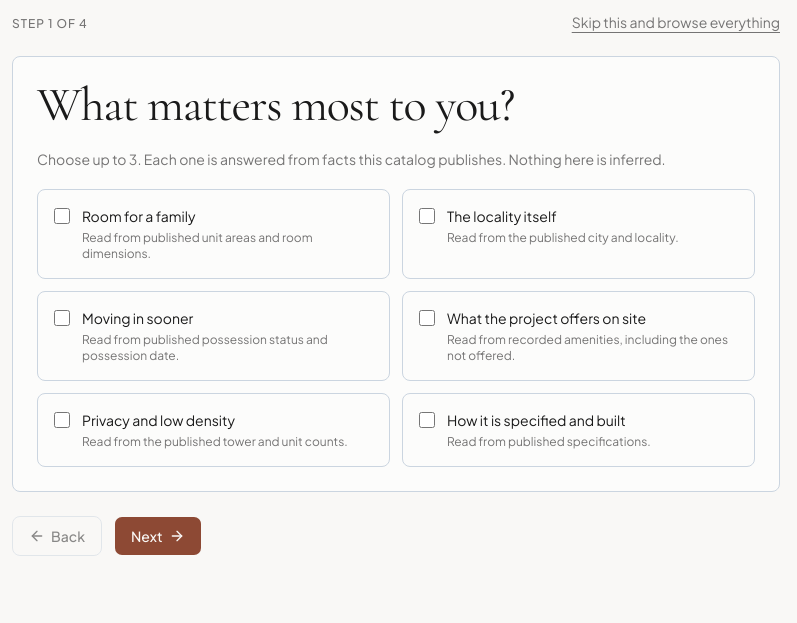
Test: IntakeFlow — answer retention › starting again clears the answers and returns to the first question
Click the checkbox labelled "Room for a family" at (62,216), box [54,208,70,224]
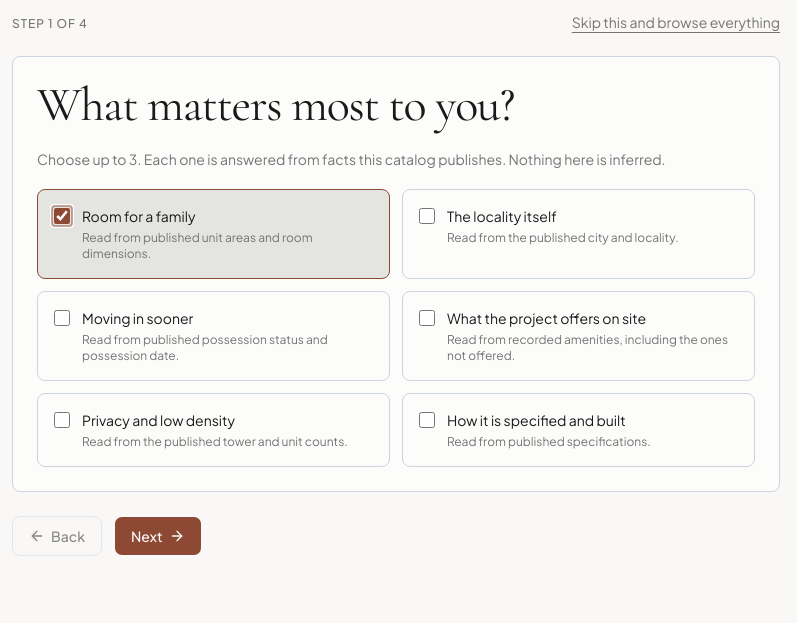
Click the button "Next" at (158,536), box [114,516,202,556]
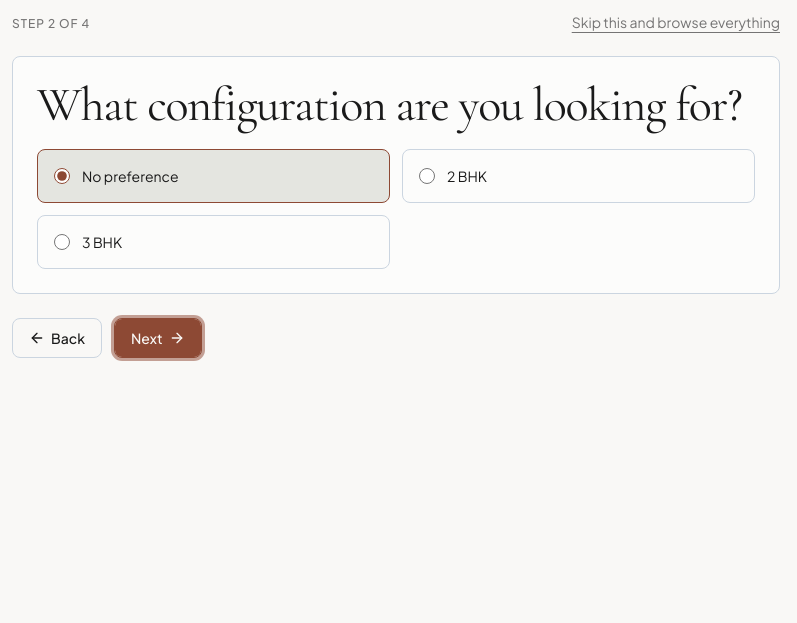
Click the button "Next" at (158,338), box [114,318,202,358]
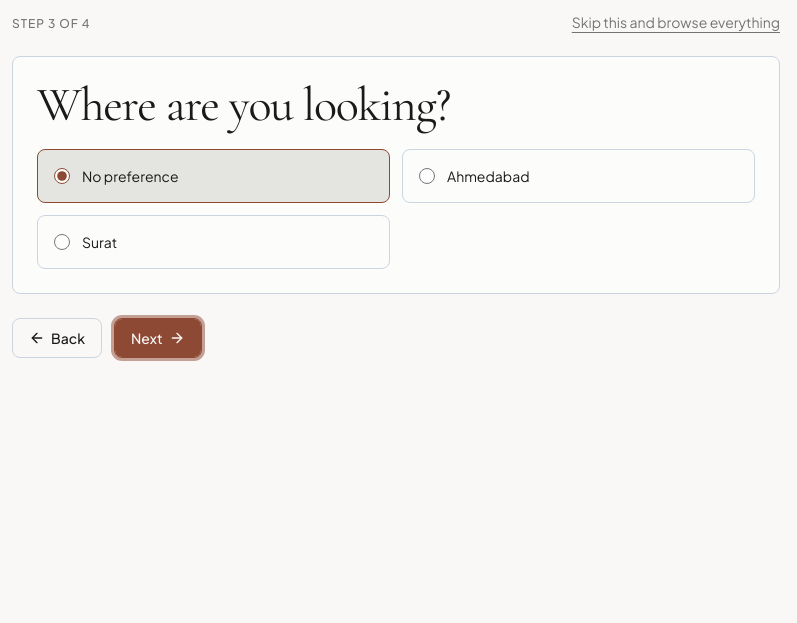
Click the button "Next" at (158,338), box [114,318,202,358]
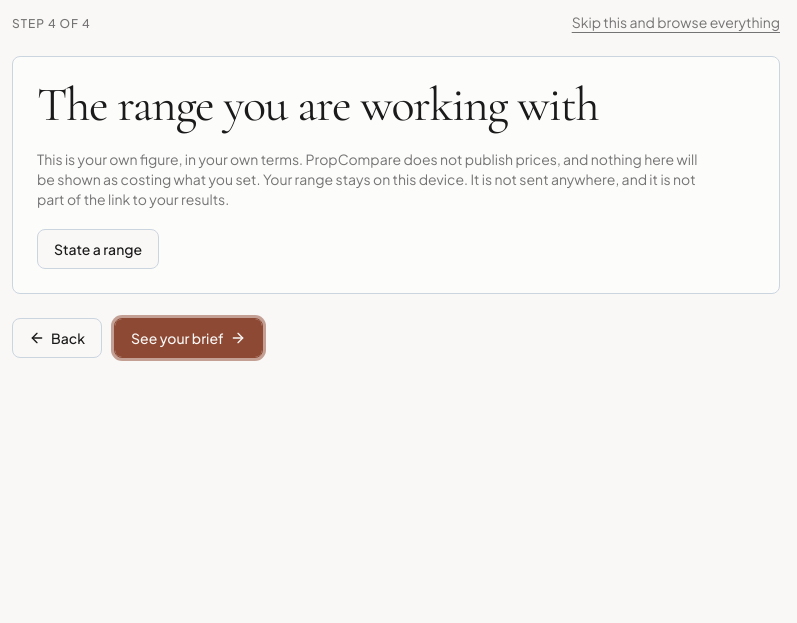
Click the button "See your brief" at (188,338), box [114,318,263,358]
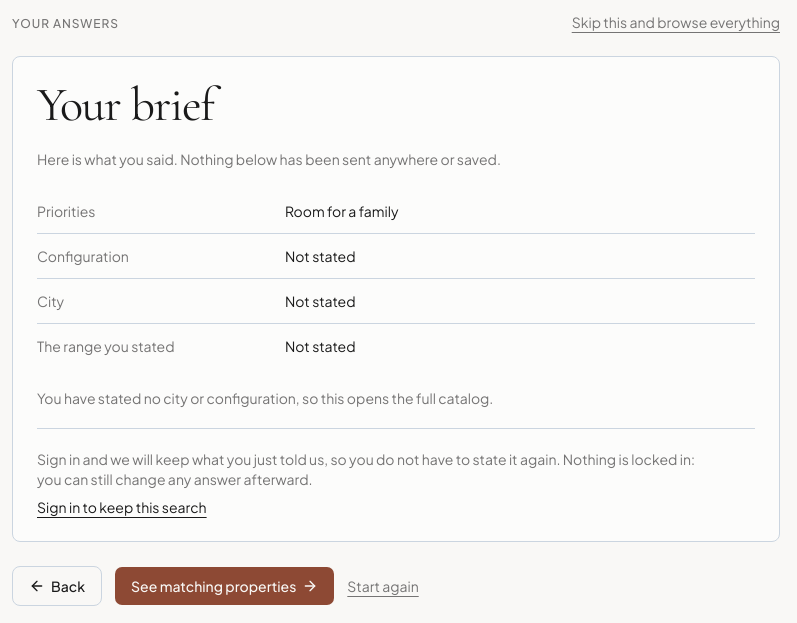
Now the text "Room for a family" is shown, box [285,201,398,221]
Click the button "Start again" at (383,586), box [347,576,419,596]
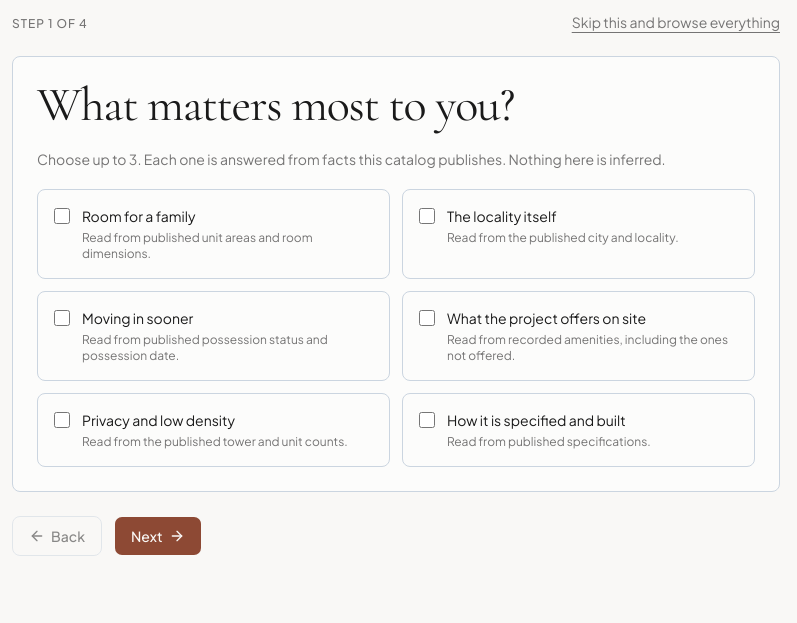
Now the text "Step 1 of 4" is shown, box [12,16,88,32]
Now the checkbox labelled "Room for a family" is not checked, box [54,208,70,224]
